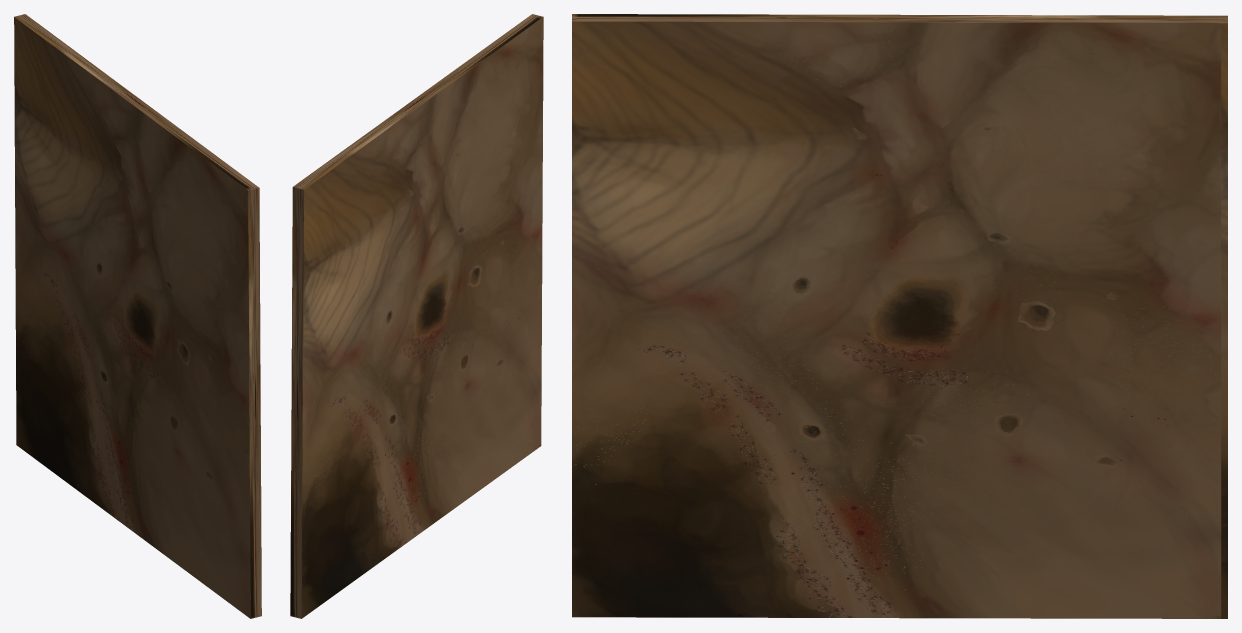
File: carte.fbx
3 views of the same model, side by side, from view 1: azimuth 30°, elevation 25°; view 2: azimuth 150°, elevation 25°; view 3: azimuth 270°, elevation 25° (orthographic). The views are drawn at different scales.
Parts seen in each view (by area): view 1: map; view 2: map; view 3: map.
Boxes of the visible parts, left/top/right/bottom form: map: left=14, top=14, right=261, bottom=618; map: left=290, top=14, right=543, bottom=618; map: left=572, top=14, right=1227, bottom=618.
Bounding box in the file's own units: 0.3928 × 10 × 10.
2 materials, 2 textured.
